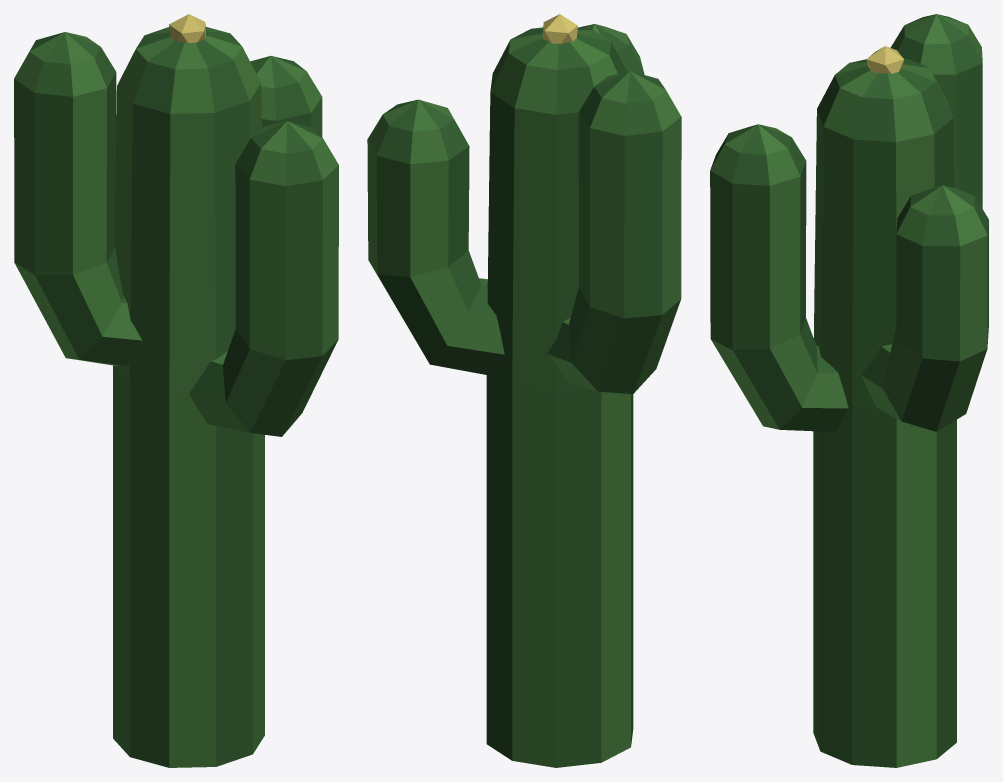
File: Tree_Saguaro_A.glb
3 views of the same model, side by side, from view 1: azimuth 30°, elevation 25°; view 2: azimuth 150°, elevation 25°; view 3: azimuth 270°, elevation 25° (orthographic). The views are drawn at different scales.
Visible parts, largest first — view 1: Tree_Saguaro_A; view 2: Tree_Saguaro_A; view 3: Tree_Saguaro_A.
Part boxes in pixels (bbox=[...]): Tree_Saguaro_A: bbox=[14, 14, 338, 767]; Tree_Saguaro_A: bbox=[367, 14, 681, 767]; Tree_Saguaro_A: bbox=[710, 14, 988, 767].
Size of the model in its own units: 1.41 by 3.34 by 1.22.
